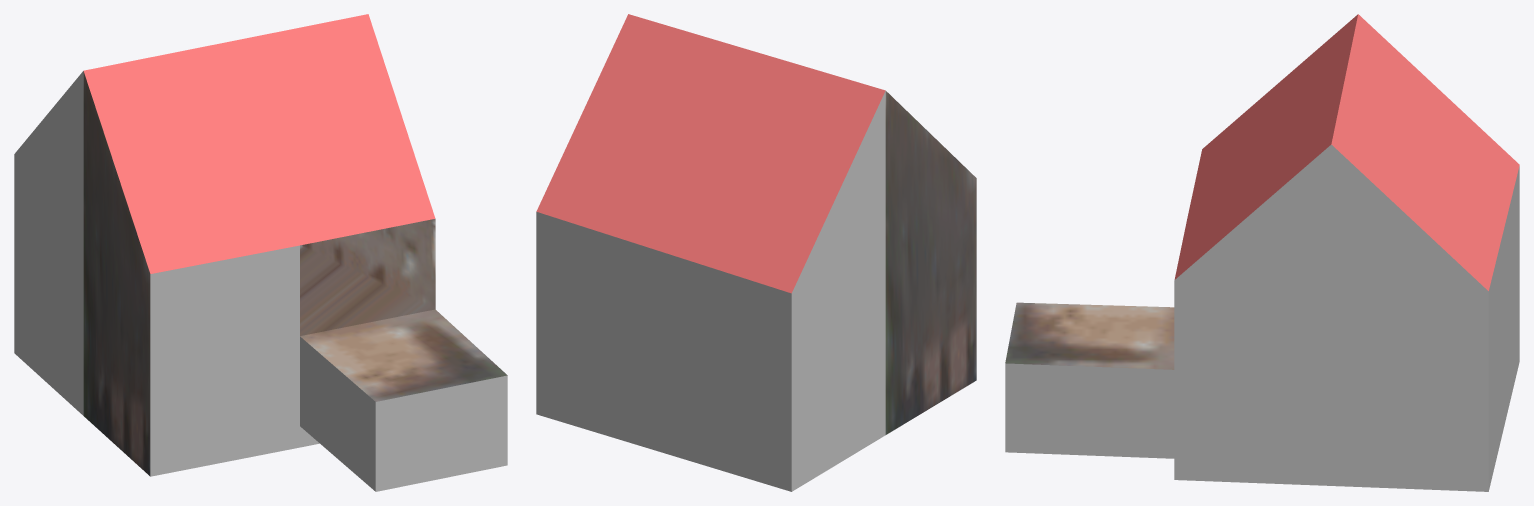
Rendered from DEBW_0010007Tx7e.gltf.
3 views of the same model, side by side, from view 1: azimuth 30°, elevation 25°; view 2: azimuth 150°, elevation 25°; view 3: azimuth 270°, elevation 25° (orthographic).
Parts seen in each view (by area): view 1: Z_UP; view 2: Z_UP; view 3: Z_UP.
Boxes of the visible parts, x1=… form: Z_UP: x1=14, y1=14, x2=507, y2=491; Z_UP: x1=536, y1=14, x2=976, y2=491; Z_UP: x1=1005, y1=14, x2=1519, y2=491.
Bounding box in the file's own units: 11.84 × 13.22 × 18.05.
Materials: 3 (1 with a texture image).
